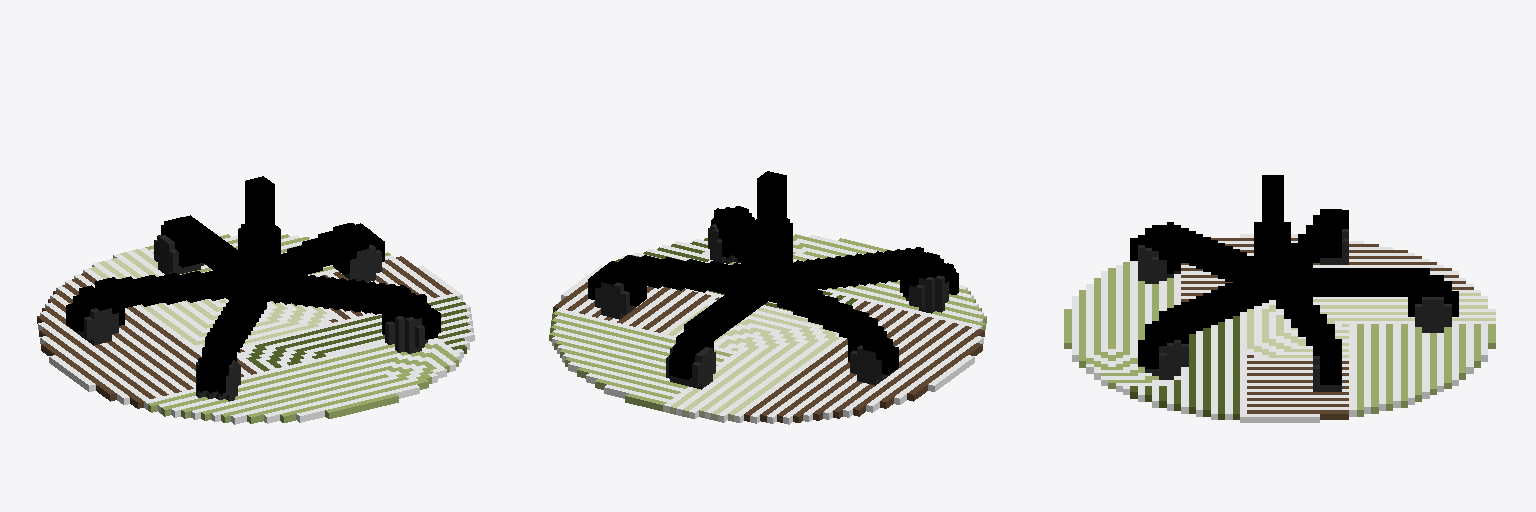
3 renders of one model, left to right at view 1: azimuth 30°, elevation 25°; view 2: azimuth 150°, elevation 25°; view 3: azimuth 270°, elevation 25°, orthographic.
Parts seen in each view (by area): view 1: object 1; view 2: object 1; view 3: object 1.
Part boxes in pixels (x1,y1,x2,y2): object 1: (37, 176, 474, 424); object 1: (549, 171, 986, 424); object 1: (1064, 175, 1495, 422).
Bounding box in the file's own units: 5.9 × 2.3 × 5.9.
Materials: 1 (1 with a texture image).